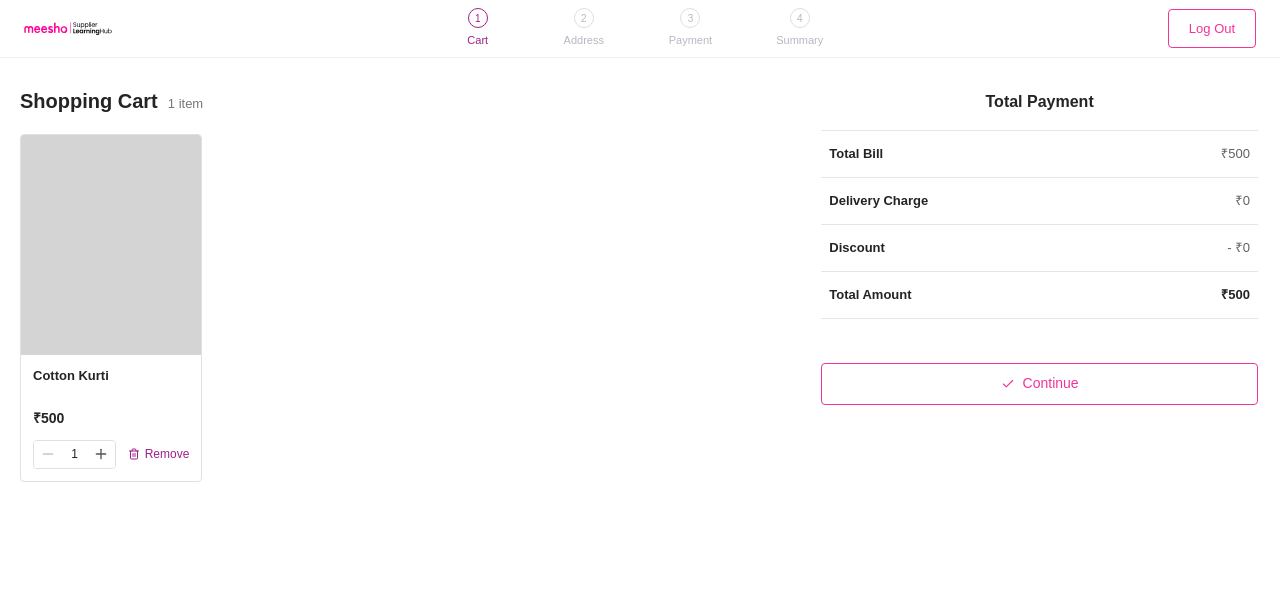
Test: customer critical flows › confirms COD only after the backend returns persisted orders
Step 1. Click the button "Continue" → point(1040, 384), box [821,362,1258,404]
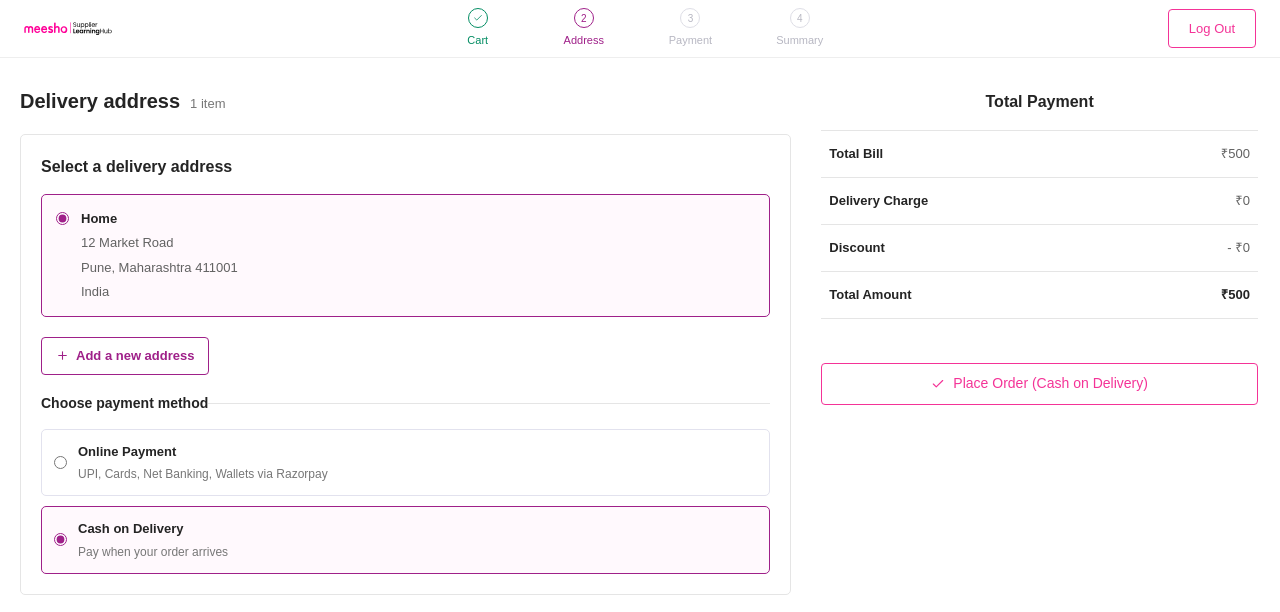
Step 2. Click the button "Place Order (Cash on Delivery)" → point(1040, 384), box [821,362,1258,404]
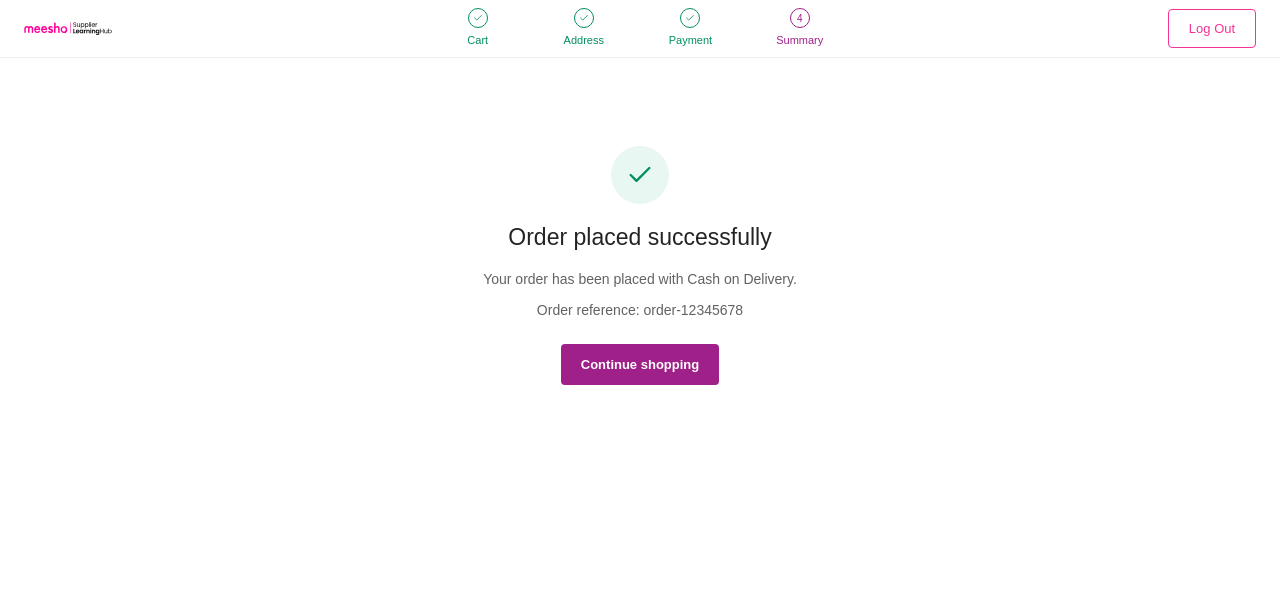
Now the heading "Order placed successfully" is shown, box [508,220,772,254]
Now the text "Order reference: order-12345678" is shown, box [537,300,743,320]
